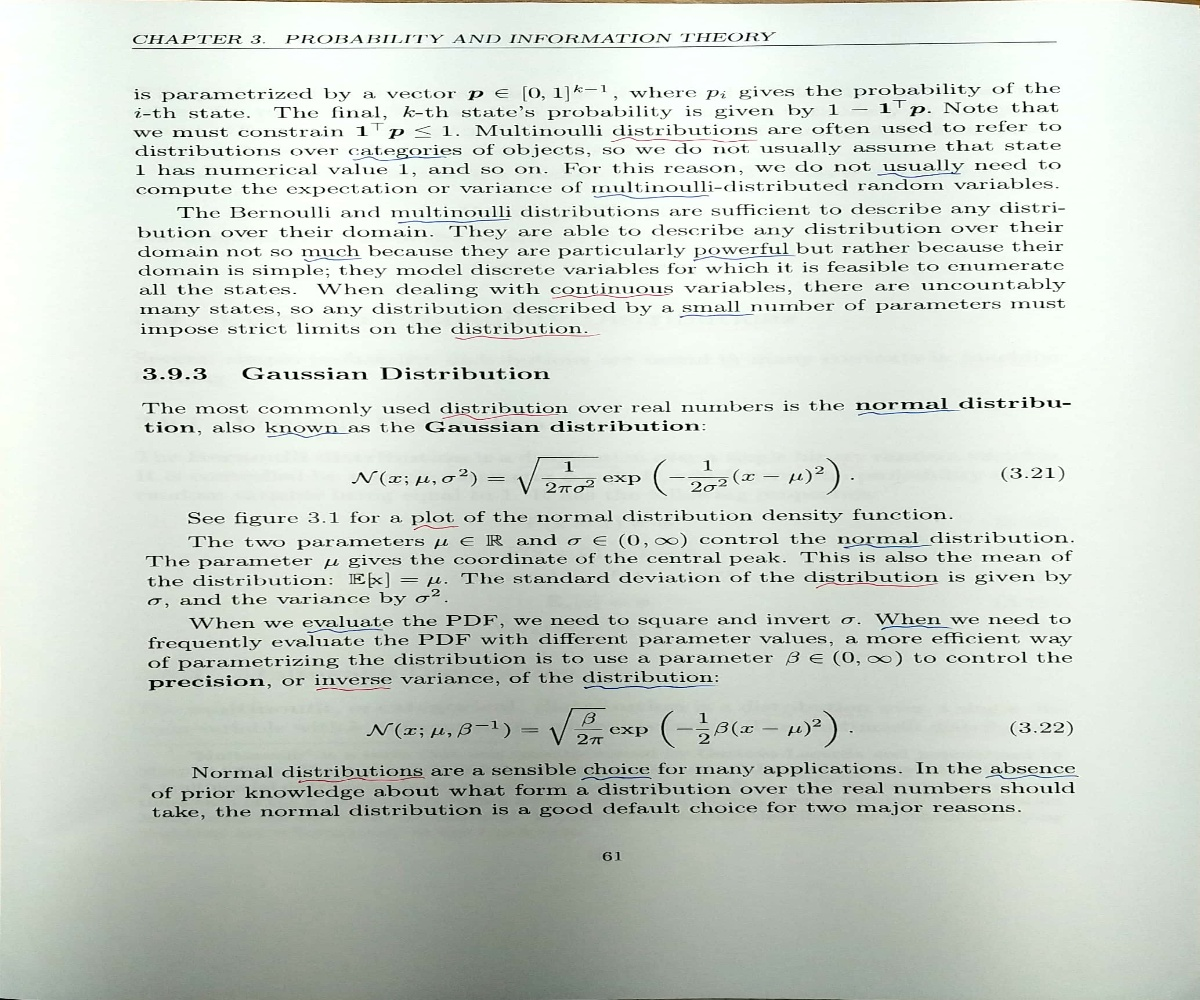underline: (813, 578, 945, 595), (453, 329, 611, 343), (576, 679, 722, 694), (608, 136, 764, 149), (432, 409, 567, 423), (393, 213, 515, 228), (546, 289, 681, 302), (871, 167, 970, 184), (347, 150, 453, 164), (588, 192, 722, 203), (689, 252, 801, 264), (980, 771, 1089, 783), (263, 428, 357, 441), (675, 309, 766, 322), (312, 683, 402, 696), (851, 408, 967, 418), (572, 772, 661, 785), (292, 776, 434, 784), (837, 542, 937, 552), (874, 621, 954, 633), (300, 626, 391, 635), (407, 521, 462, 532)
